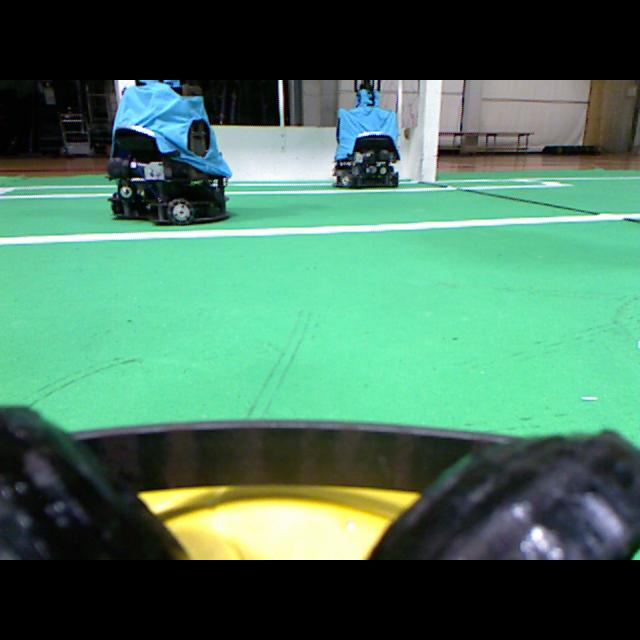ball: (138, 486, 418, 558)
goal: (420, 80, 441, 181)
